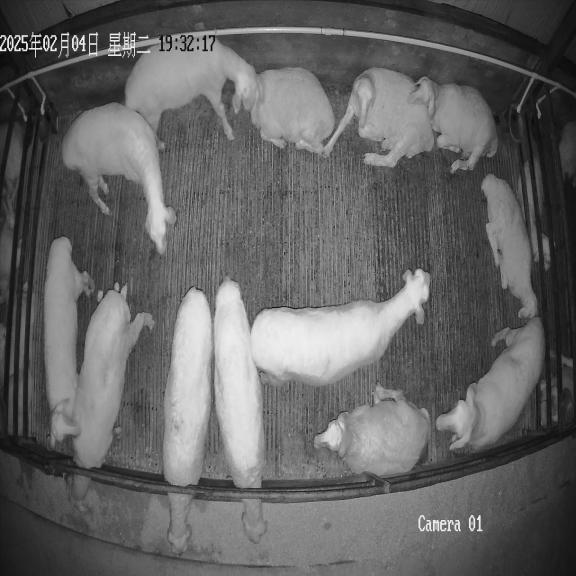eating: (63, 283, 154, 512), (214, 278, 267, 543), (162, 287, 213, 556)
lying: (436, 317, 544, 451), (325, 68, 435, 168), (314, 383, 431, 476), (410, 76, 498, 173), (481, 174, 538, 319), (250, 68, 335, 156)
stand: (251, 269, 430, 386), (62, 102, 176, 254), (125, 32, 259, 140), (44, 237, 94, 448)
